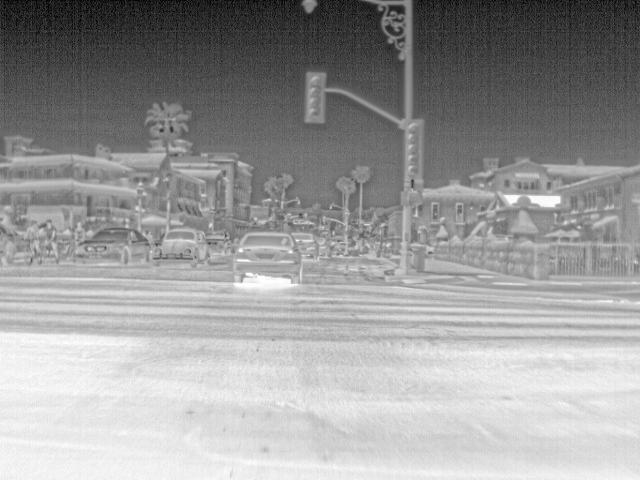car: (229, 230, 305, 282), (72, 227, 156, 262), (148, 229, 208, 265), (292, 230, 316, 258)
person: (22, 224, 48, 264), (44, 223, 62, 266)
